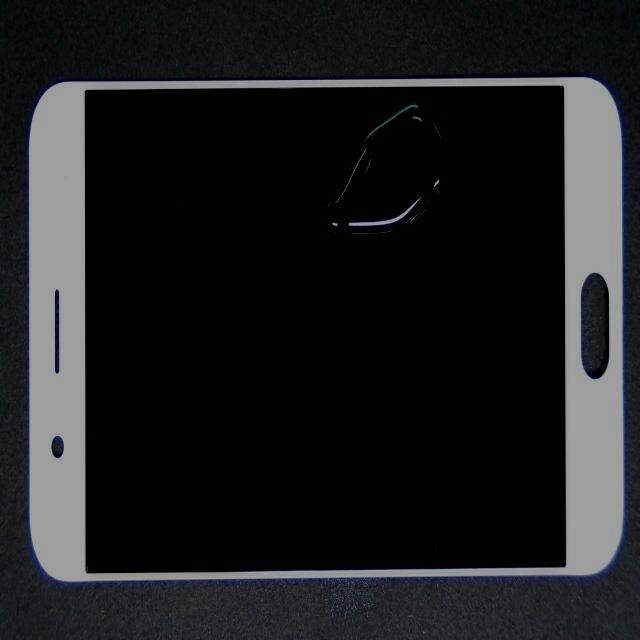oil: (228, 102, 640, 210)
